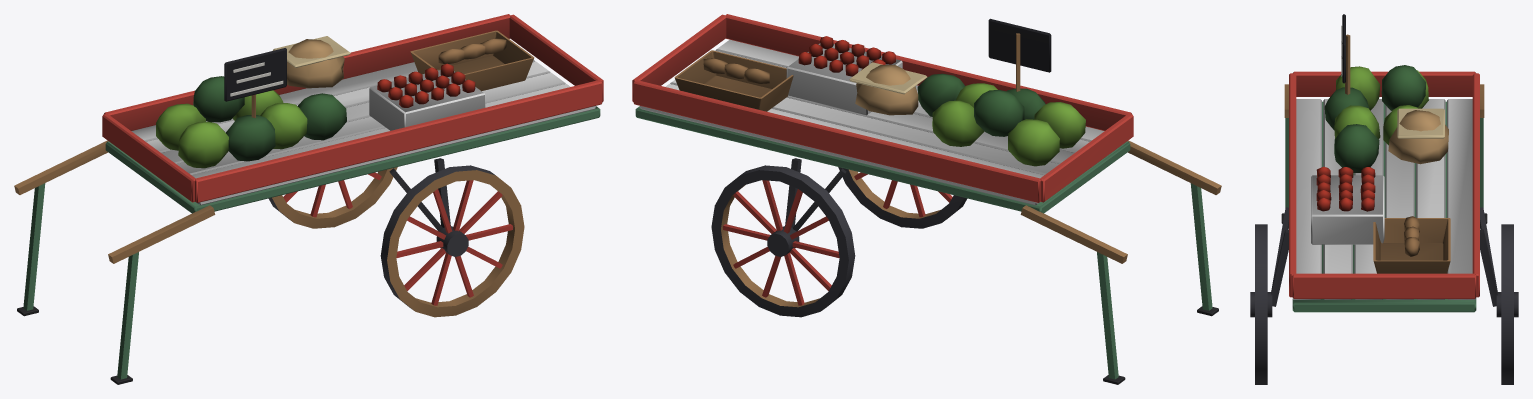
Rendered from BarrowCart.fbx.
3 renders of one model, left to right at view 1: azimuth 30°, elevation 25°; view 2: azimuth 150°, elevation 25°; view 3: azimuth 270°, elevation 25°, orthographic.
Parts seen in each view (by area): view 1: BarrowCart; view 2: BarrowCart; view 3: BarrowCart.
Boxes of the visible parts, left/top/right/bottom form: BarrowCart: left=14, top=14, right=603, bottom=384; BarrowCart: left=632, top=14, right=1221, bottom=384; BarrowCart: left=1250, top=14, right=1518, bottom=384.
Size of the model in its own units: 3.18 by 1.63 by 1.46.
